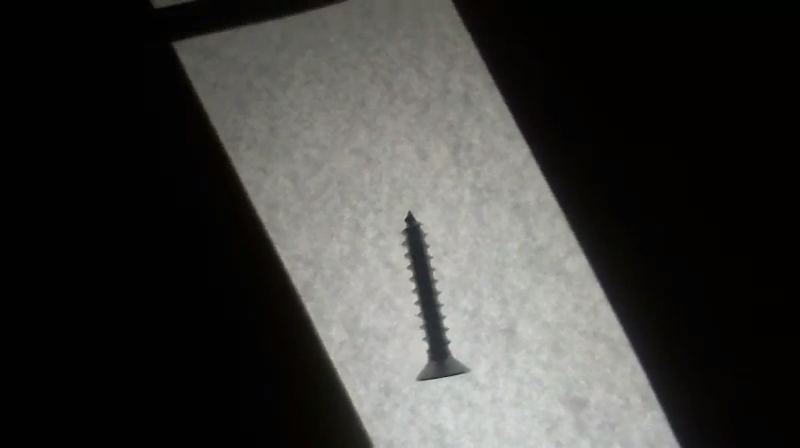S001: (398, 207, 472, 387)
